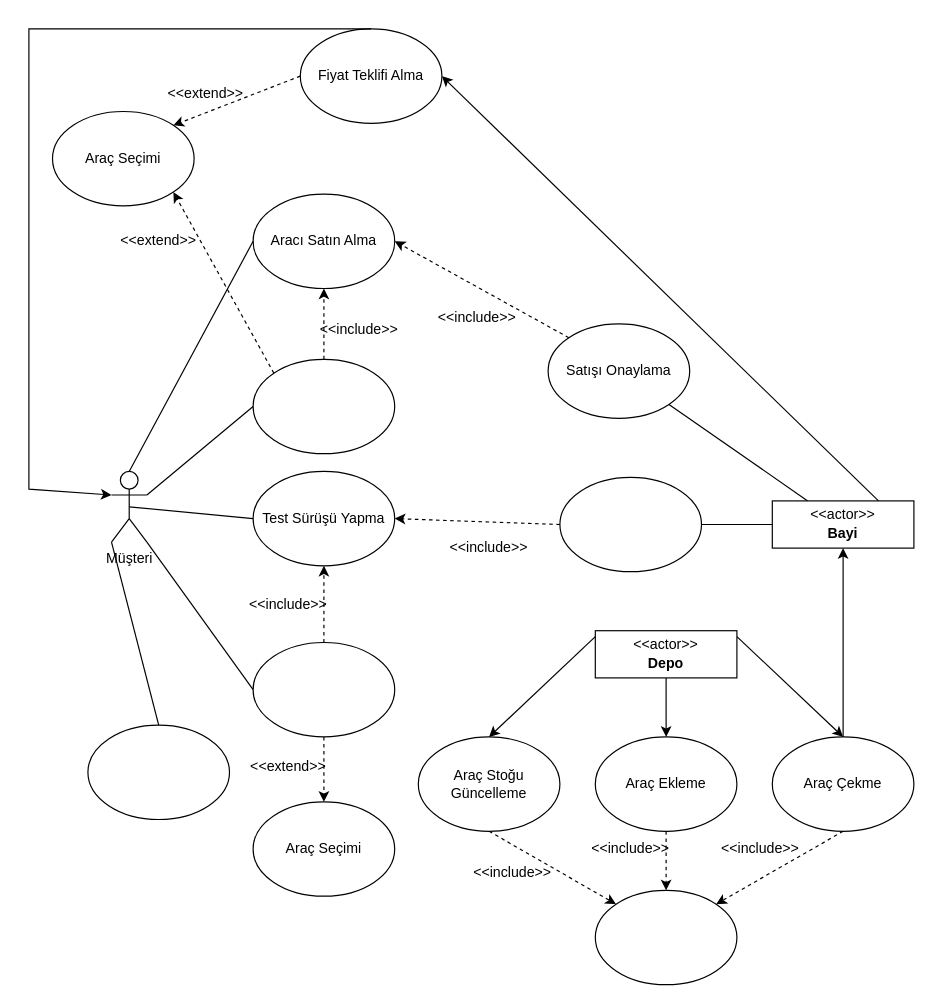
Some shapes in this 935 by 1005 pixel diagram are drawn without their labels. Each missing label, with the centre of its shape:
"Bilgi Girişi" belongs at pixel 665 937.
"Sipariş Oluşturma" belongs at pixel 323 406.
"Stoktaki Araçları Sorgulama" belongs at pixel 158 772.
"Test Sürüşü Onaylama" belongs at pixel 630 524.
"Test Sürüşü Talep Etme" belongs at pixel 323 689.
